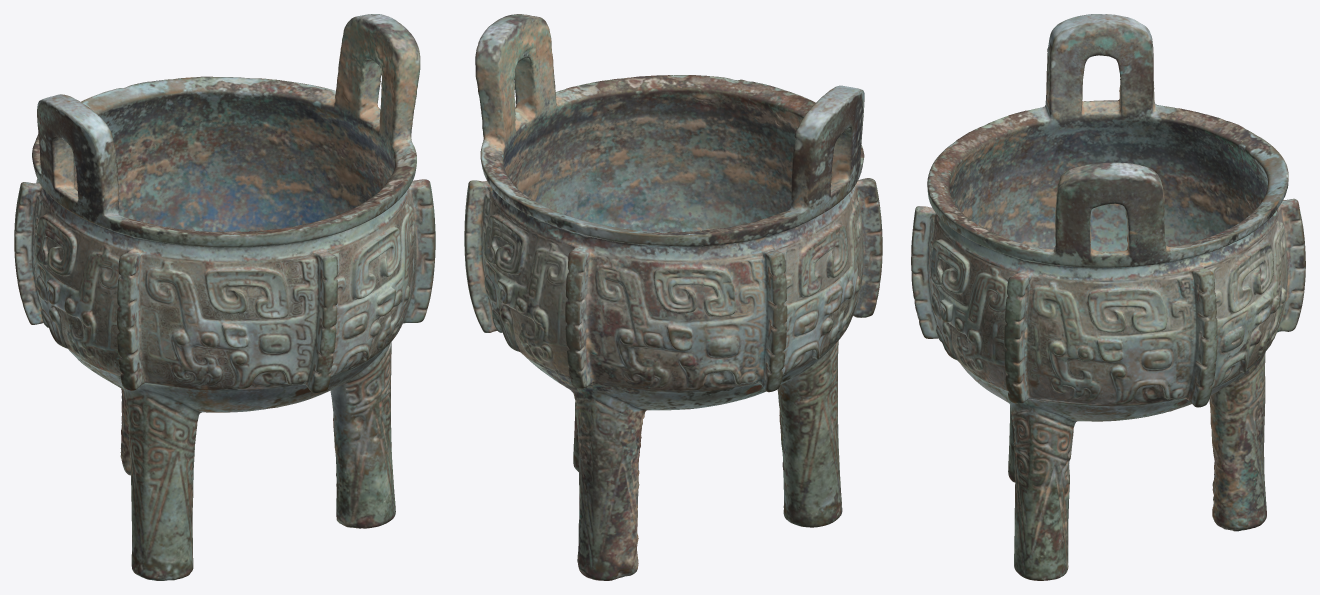
Rendered from 1962.281_tripod_ding.glb.
3 renders of one model, left to right at view 1: azimuth 30°, elevation 25°; view 2: azimuth 150°, elevation 25°; view 3: azimuth 270°, elevation 25°, orthographic. The views are drawn at different scales.
Visible parts, largest first — view 1: Object_2, Object_3, Object_4; view 2: Object_3, Object_2, Object_4; view 3: Object_2, Object_3, Object_4.
Boxes of the visible parts, x1=… form: Object_2: x1=73, y1=14, x2=435, y2=580; Object_3: x1=14, y1=21, x2=435, y2=573; Object_4: x1=18, y1=95, x2=351, y2=509; Object_3: x1=464, y1=47, x2=882, y2=580; Object_2: x1=475, y1=14, x2=882, y2=527; Object_4: x1=484, y1=87, x2=882, y2=464; Object_2: x1=911, y1=107, x2=1268, y2=580; Object_3: x1=913, y1=14, x2=1305, y2=580; Object_4: x1=1015, y1=15, x2=1273, y2=415.
Size of the model in its own units: 0.1959 by 0.2457 by 0.203.
Materials: 1 (1 with a texture image).
